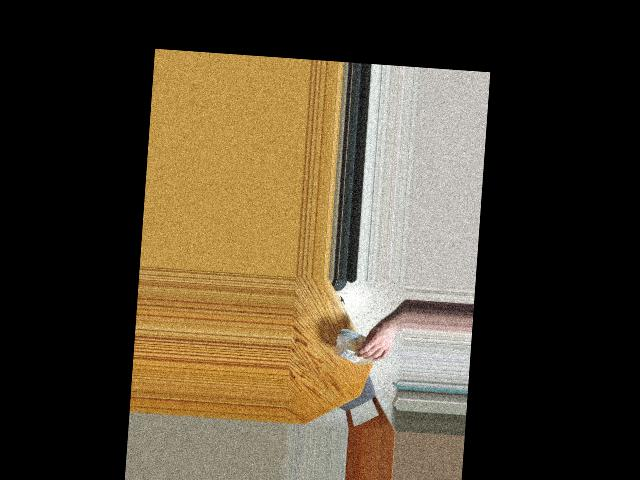cheese: (336, 330, 377, 366)
